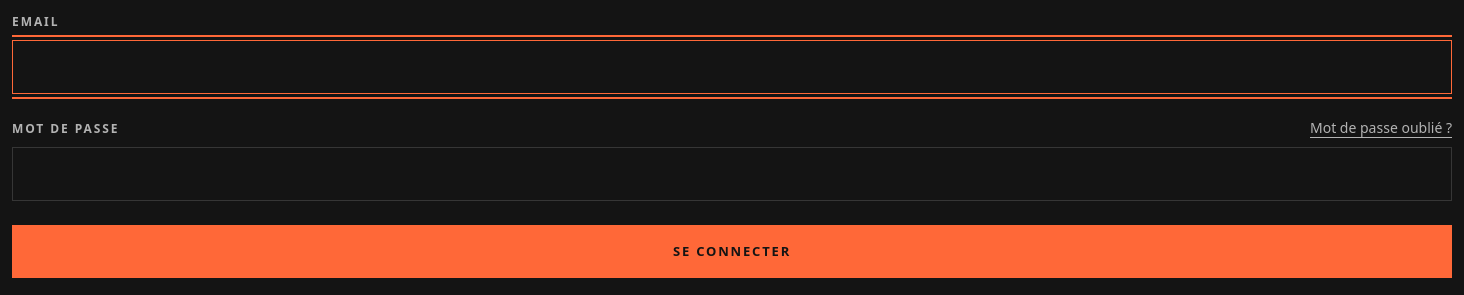
it: FormulaireConnexion › ne désactive jamais les champs pendant l’envoi
This screenshot has width=1464, height=295.
Click the button "Se connecter".
click(732, 251)  # box [12,225,1452,278]
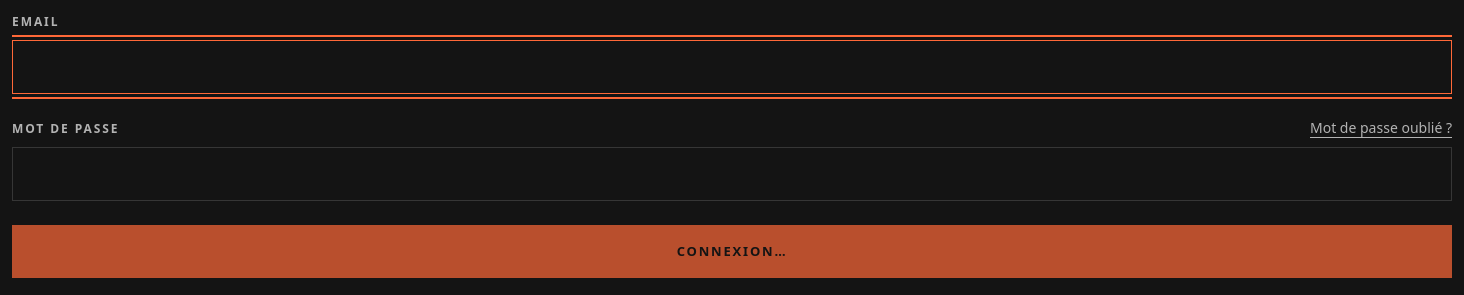
Expected: the field labelled "Email" is enabled, [12,40,1452,94]
Expected: the button "Connexion…" is shown, [12,225,1452,278]
